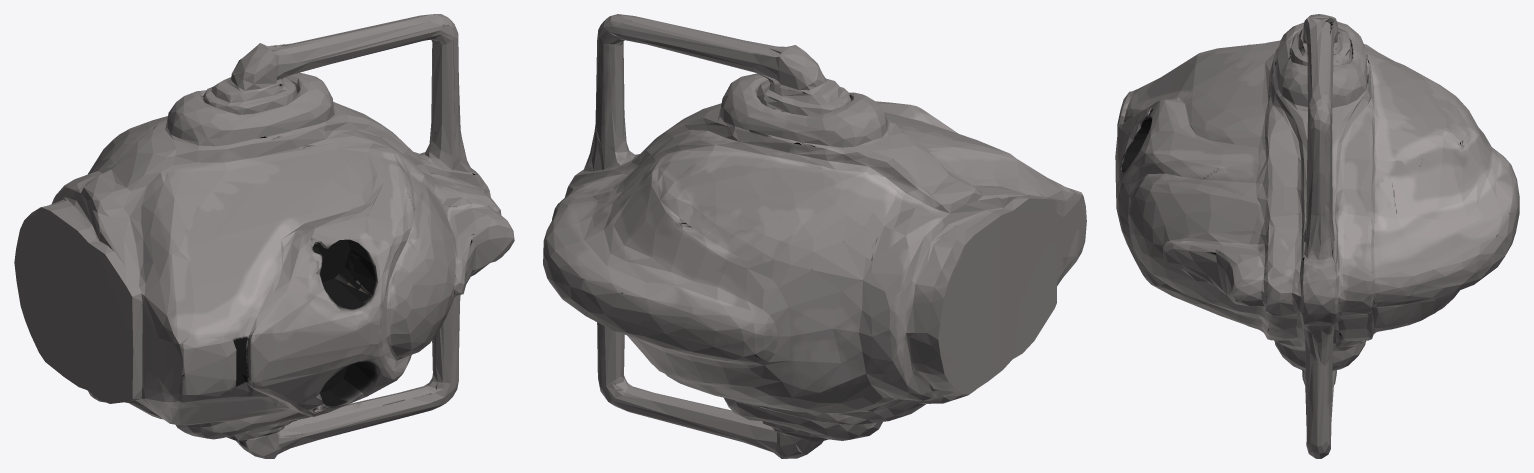
File: Cyberman.fbx
The picture shows the model from 3 angles, left to right: view 1: azimuth 30°, elevation 25°; view 2: azimuth 150°, elevation 25°; view 3: azimuth 270°, elevation 25°; orthographic projection. The views are drawn at different scales.
Parts seen in each view (by area): view 1: cyberman_headSculpted; view 2: cyberman_headSculpted; view 3: cyberman_headSculpted.
Part boxes in pixels (x1=…): cyberman_headSculpted: x1=14, y1=14, x2=514, y2=458; cyberman_headSculpted: x1=543, y1=14, x2=1086, y2=458; cyberman_headSculpted: x1=1115, y1=14, x2=1519, y2=458.
Bounding box in the file's own units: 0.2177 × 0.202 × 0.1981.
